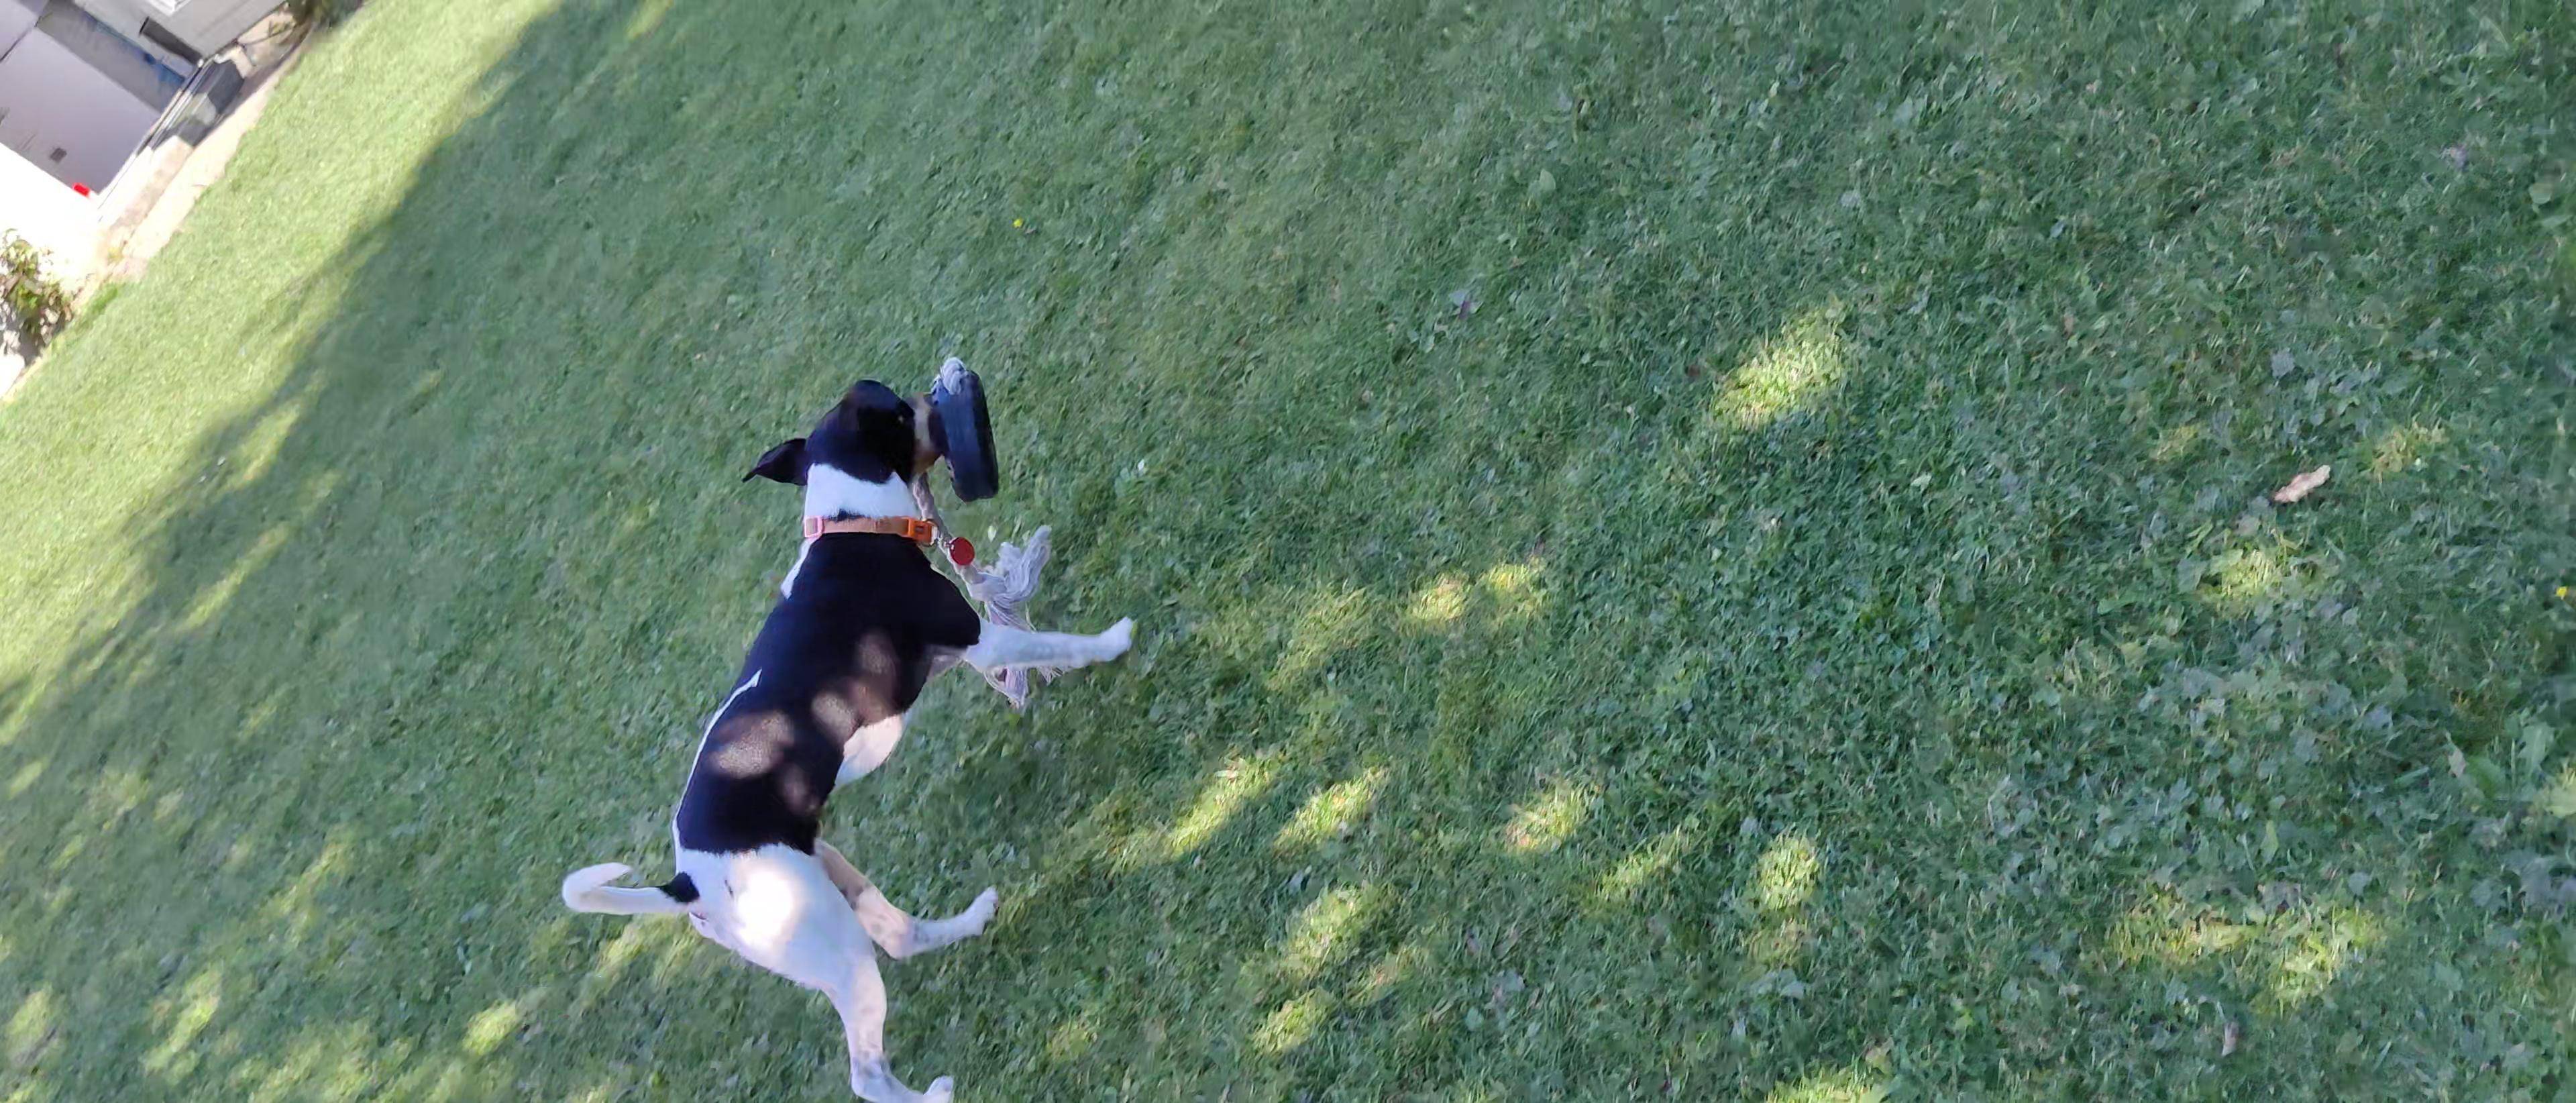Dog: (549, 372, 1147, 1103)
